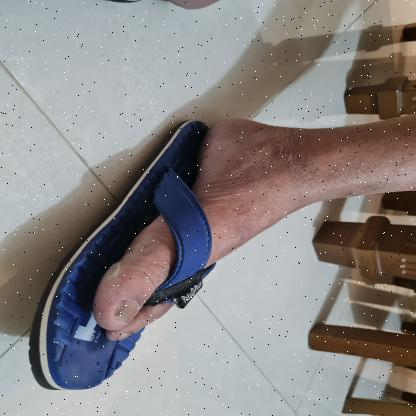leg: (17, 104, 416, 395)
